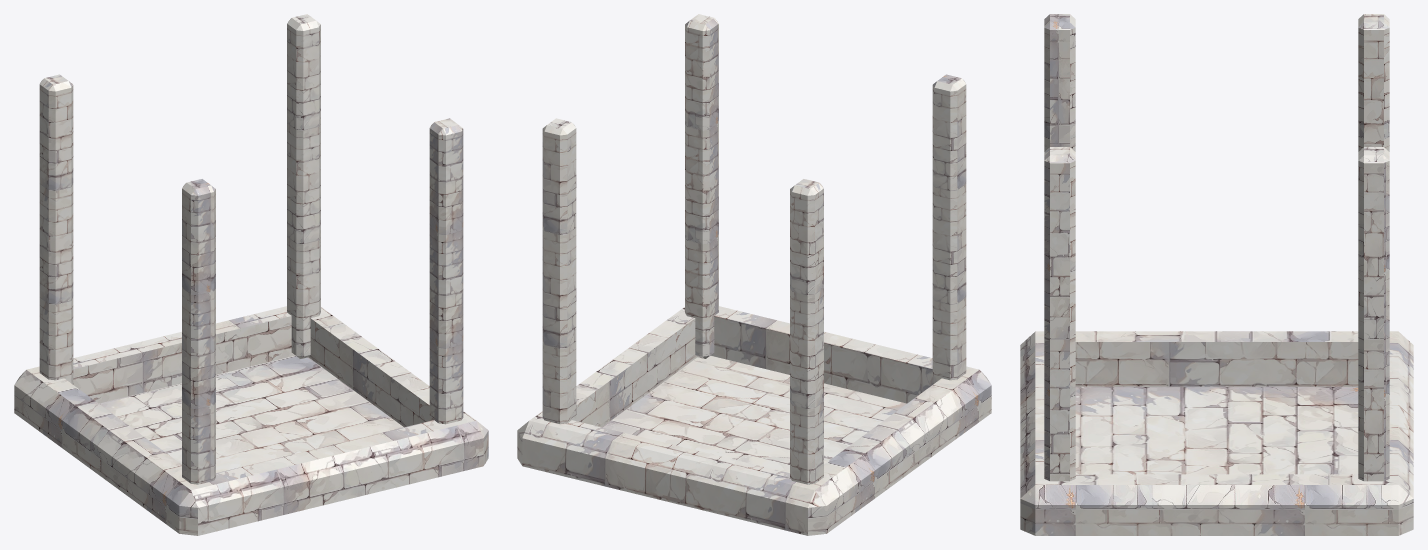
The model's file is basement.glb.
The picture shows the model from 3 angles, left to right: view 1: azimuth 30°, elevation 25°; view 2: azimuth 150°, elevation 25°; view 3: azimuth 270°, elevation 25°; orthographic projection. The views are drawn at different scales.
Parts seen in each view (by area): view 1: Basement, Cube; view 2: Basement, Cube; view 3: Basement, Cube.
Boxes of the visible parts, bbox=[...] form: Basement: bbox=[14, 306, 488, 535]; Cube: bbox=[39, 14, 463, 484]; Basement: bbox=[517, 306, 991, 535]; Cube: bbox=[542, 14, 966, 484]; Basement: bbox=[1020, 331, 1413, 535]; Cube: bbox=[1044, 14, 1389, 481].
Size of what is drawn, in the model's own units: 40 by 41.38 by 40.
1 material, 1 textured.
